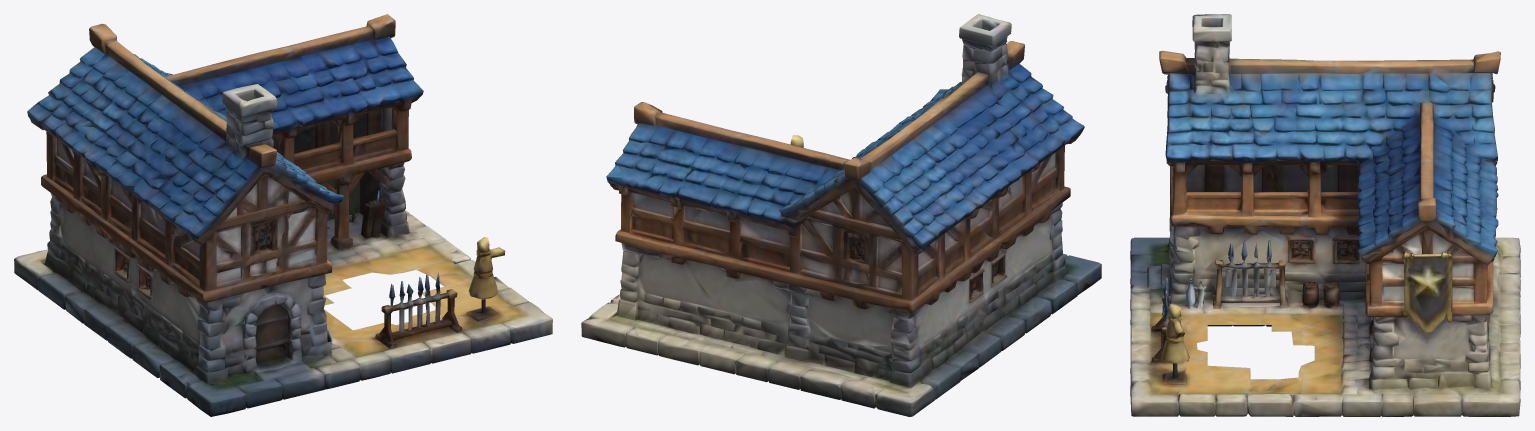
Rendered from barracks-low.glb.
3 views of the same model, side by side, from view 1: azimuth 30°, elevation 25°; view 2: azimuth 150°, elevation 25°; view 3: azimuth 270°, elevation 25° (orthographic). The views are drawn at different scales.
Visible parts, largest first — view 1: tripo_node_9ff298f8-7dea-45d6-89e7-8afd8d51ff5a; view 2: tripo_node_9ff298f8-7dea-45d6-89e7-8afd8d51ff5a; view 3: tripo_node_9ff298f8-7dea-45d6-89e7-8afd8d51ff5a.
Part boxes in pixels (bbox=[...]): tripo_node_9ff298f8-7dea-45d6-89e7-8afd8d51ff5a: bbox=[14, 14, 552, 416]; tripo_node_9ff298f8-7dea-45d6-89e7-8afd8d51ff5a: bbox=[581, 14, 1101, 416]; tripo_node_9ff298f8-7dea-45d6-89e7-8afd8d51ff5a: bbox=[1130, 14, 1520, 416].
Size of the model in its own units: 0.9984 by 0.7593 by 0.9975.
Materials: 1 (1 with a texture image).
